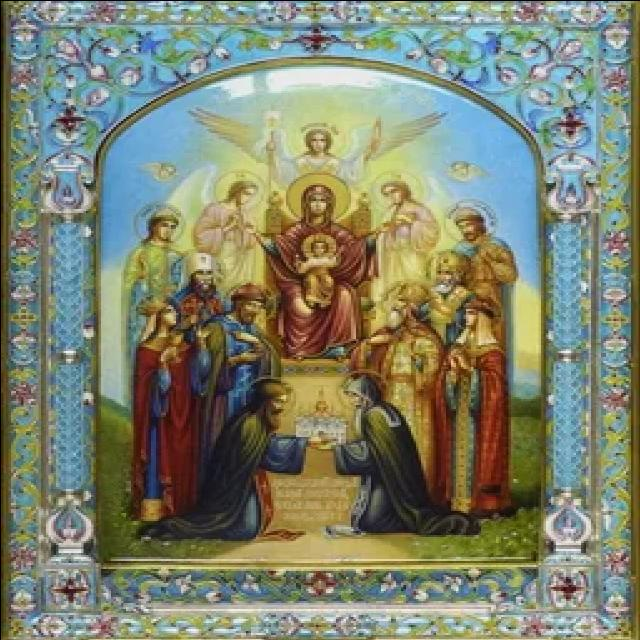mother of god: (245, 175, 383, 369)
